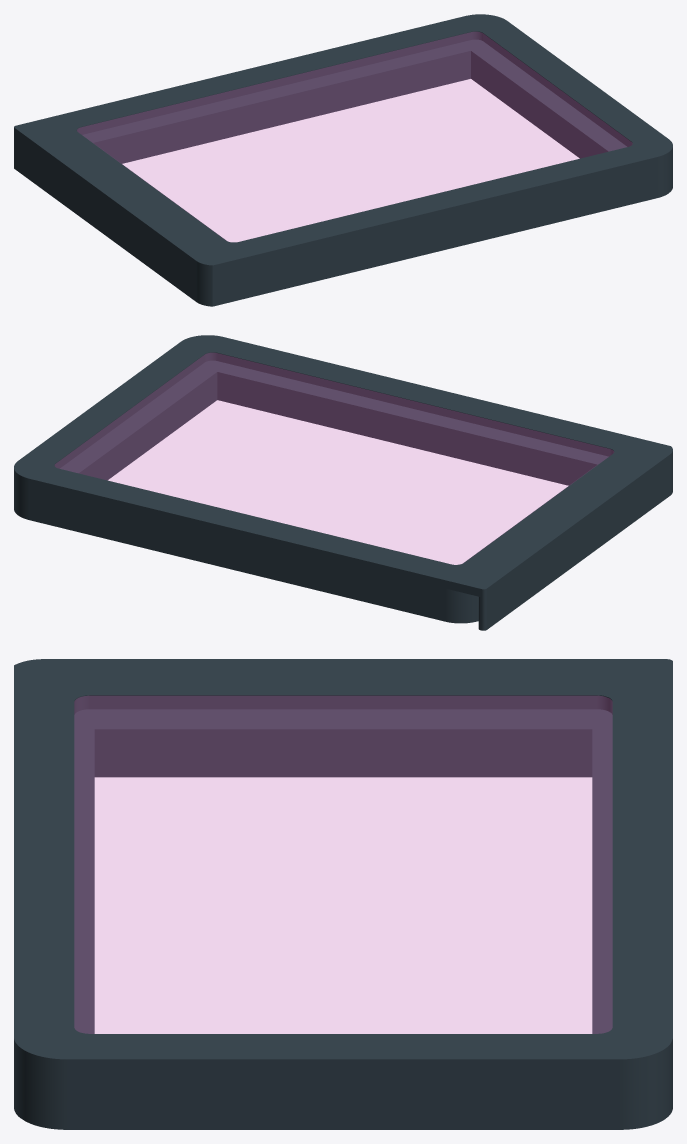
The model's file is light_tray.glb.
3 renders of one model, top to bottom at view 1: azimuth 30°, elevation 25°; view 2: azimuth 150°, elevation 25°; view 3: azimuth 270°, elevation 25°, orthographic. The views are drawn at different scales.
Size of the model in its own units: 0.1522 by 0.0125 by 0.1059.
